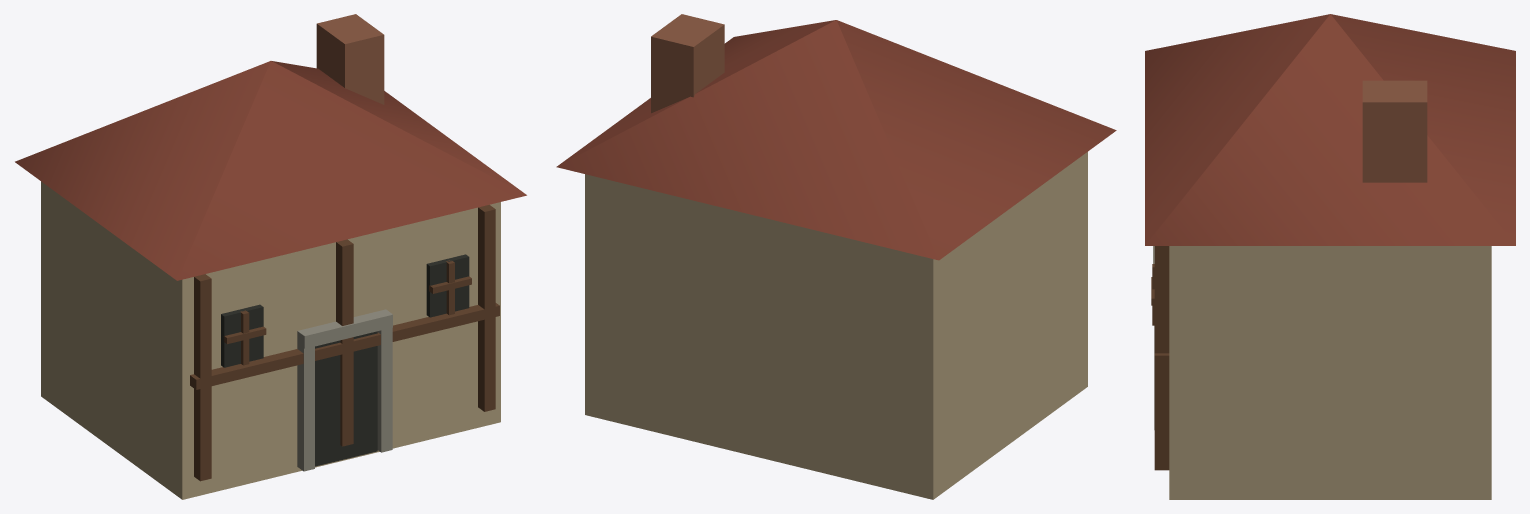
Rendered from custom-home-europe.glb.
The picture shows the model from 3 angles, left to right: view 1: azimuth 30°, elevation 25°; view 2: azimuth 150°, elevation 25°; view 3: azimuth 270°, elevation 25°; orthographic projection. The views are drawn at different scales.
Visible parts, largest first — view 1: custom-home-europe; view 2: custom-home-europe; view 3: custom-home-europe.
Part boxes in pixels (box(x1,y1,x2,y2)): custom-home-europe: box(15, 14, 526, 499); custom-home-europe: box(556, 14, 1116, 499); custom-home-europe: box(1145, 14, 1515, 499).
Size of the model in its own units: 1 by 0.9509 by 0.8042.
